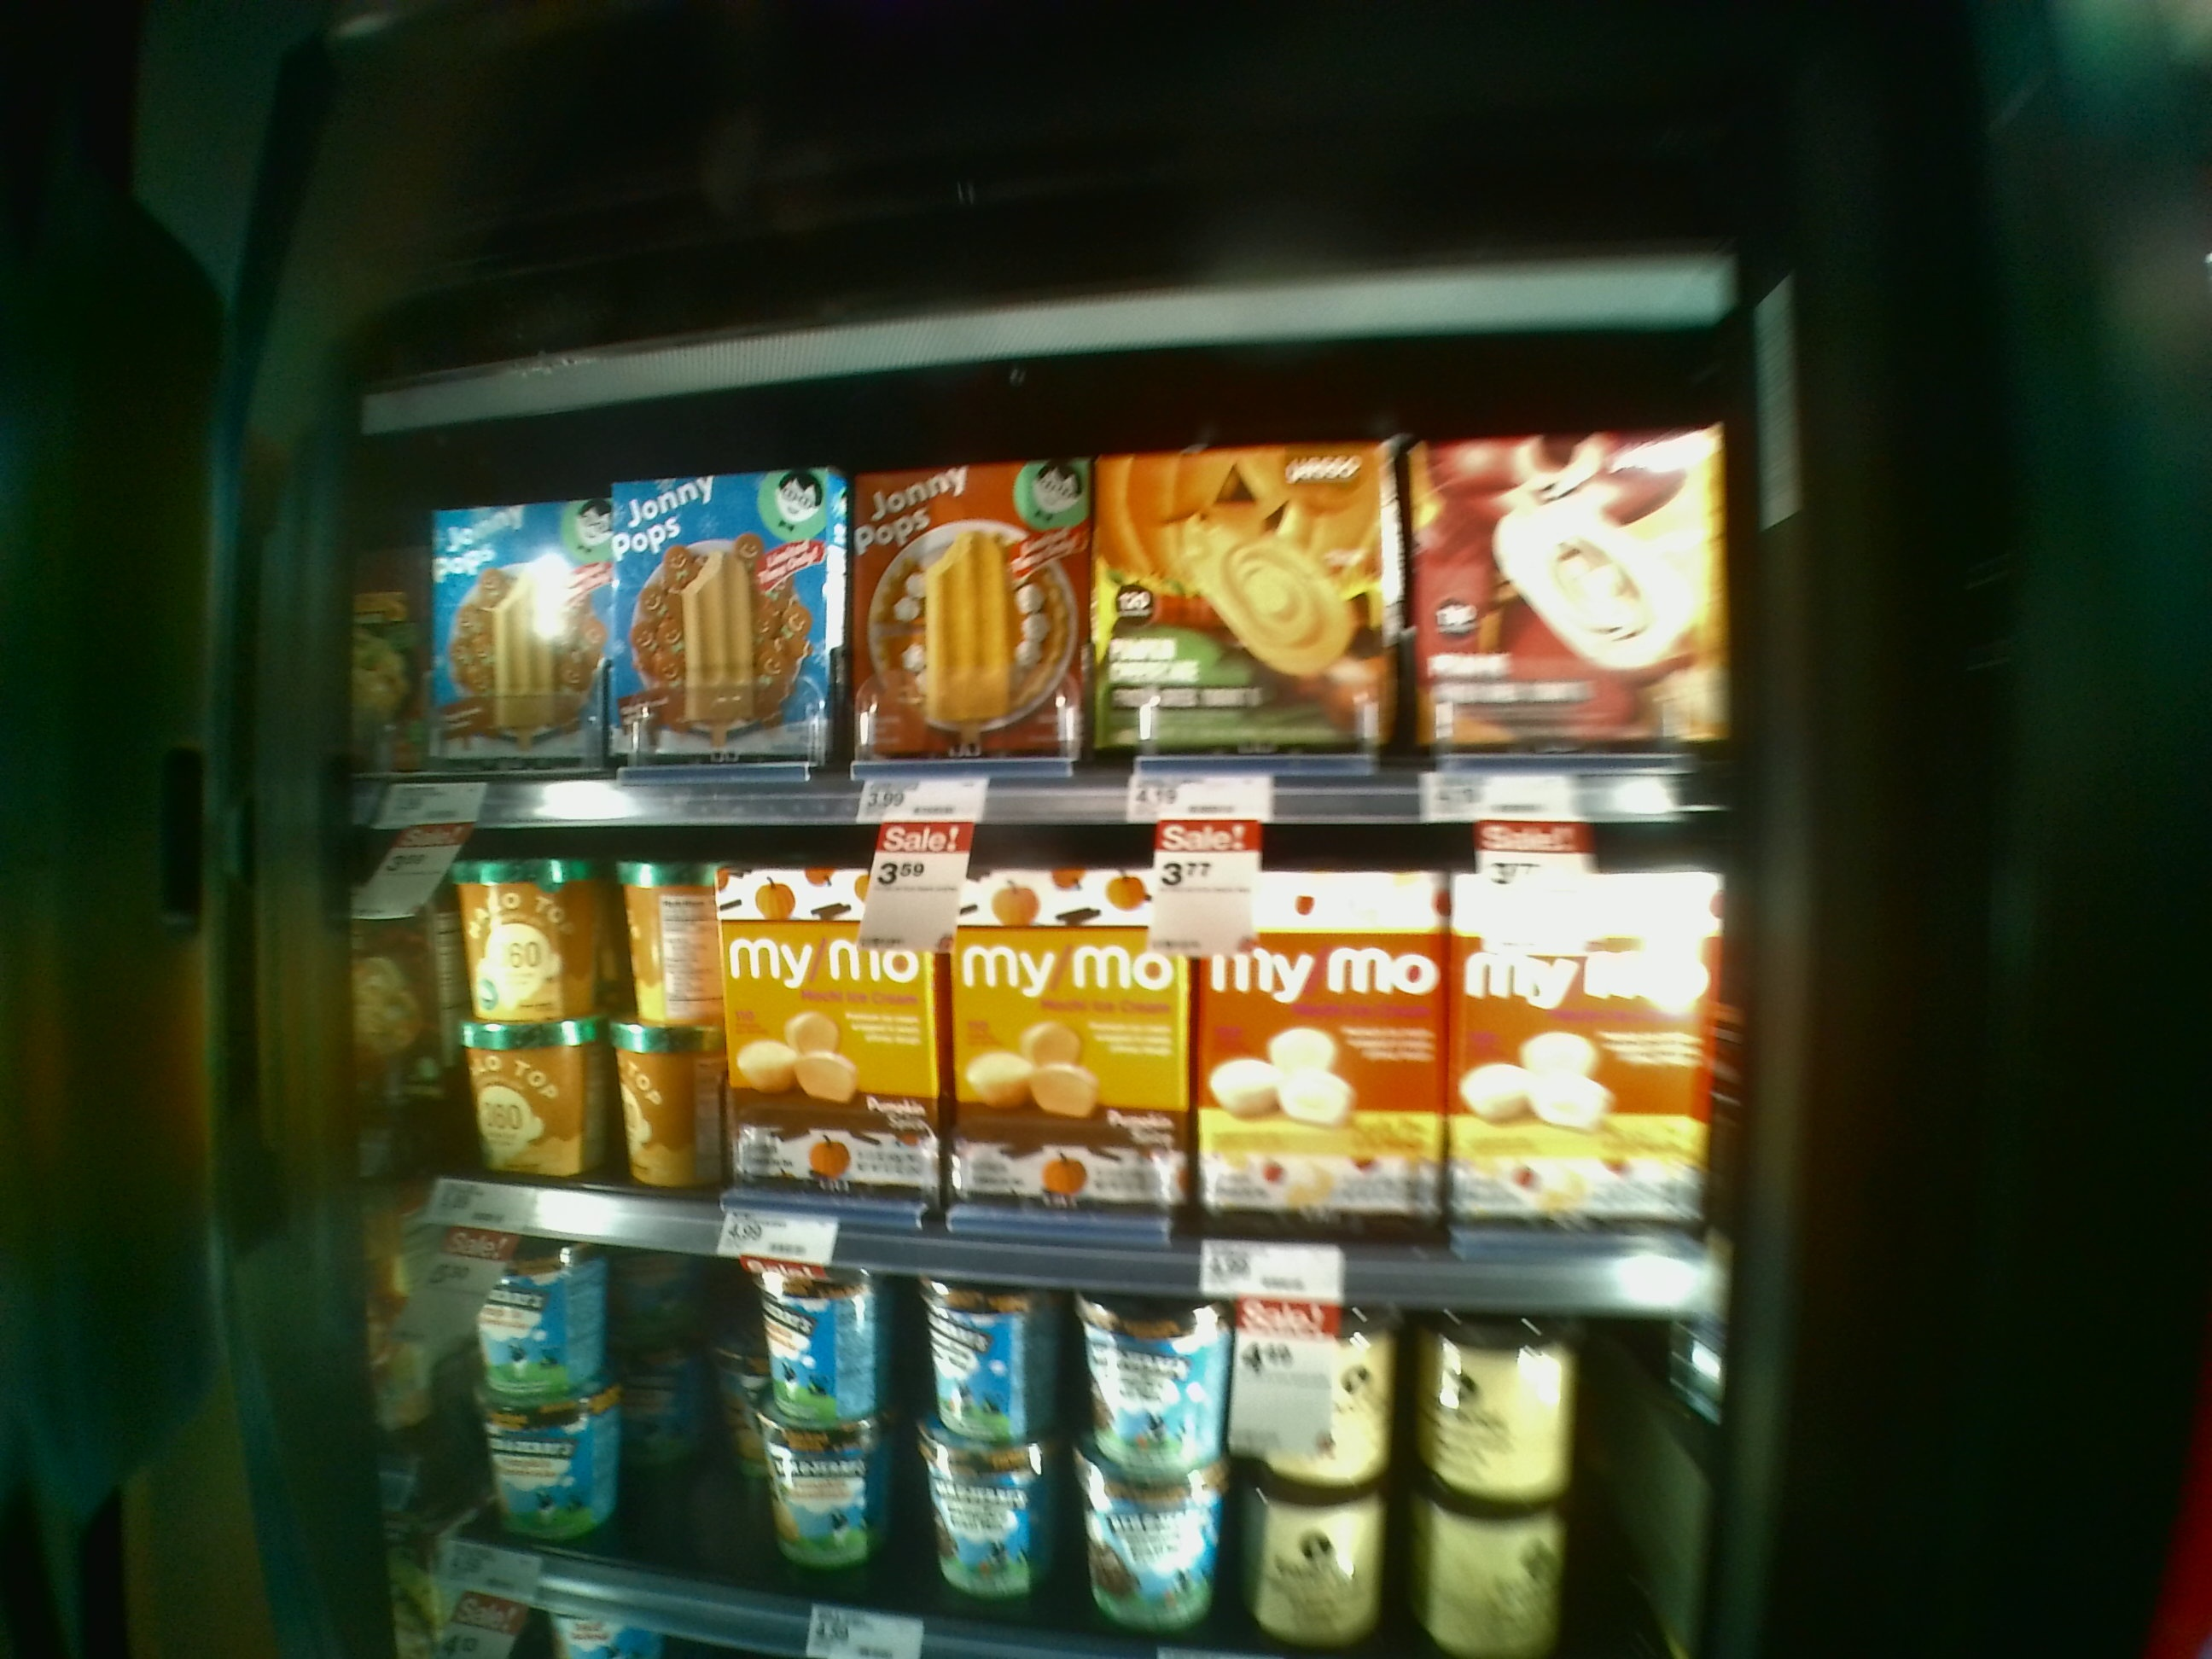shelf: (380, 798, 1724, 1309), (387, 429, 1726, 823)
